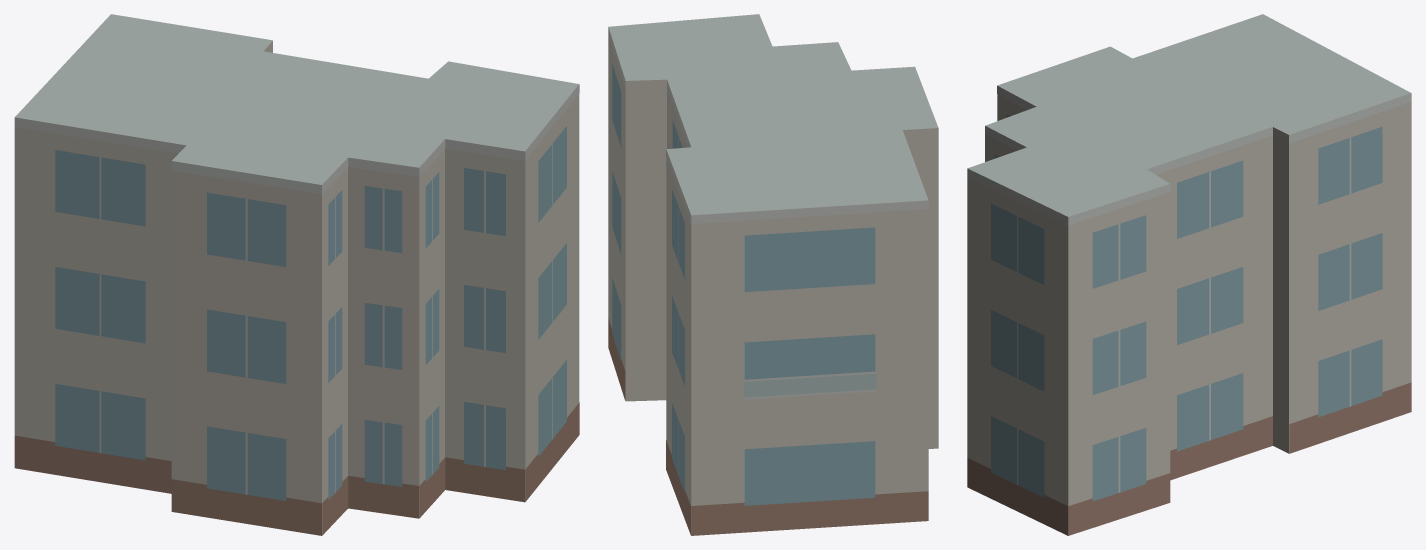
The model's file is survey-upis-32696427.glb.
The picture shows the model from 3 angles, left to right: view 1: azimuth 30°, elevation 25°; view 2: azimuth 150°, elevation 25°; view 3: azimuth 270°, elevation 25°; orthographic projection. The views are drawn at different scales.
Visible parts, largest first — view 1: survey-upis-32696427.tmp; view 2: survey-upis-32696427.tmp; view 3: survey-upis-32696427.tmp.
Boxes of the visible parts, x1,y1,x2,y2 form: survey-upis-32696427.tmp: [14, 14, 579, 535]; survey-upis-32696427.tmp: [608, 14, 938, 535]; survey-upis-32696427.tmp: [967, 14, 1411, 535].
Bounding box in the file's own units: 12.5 × 9.15 × 11.56.
